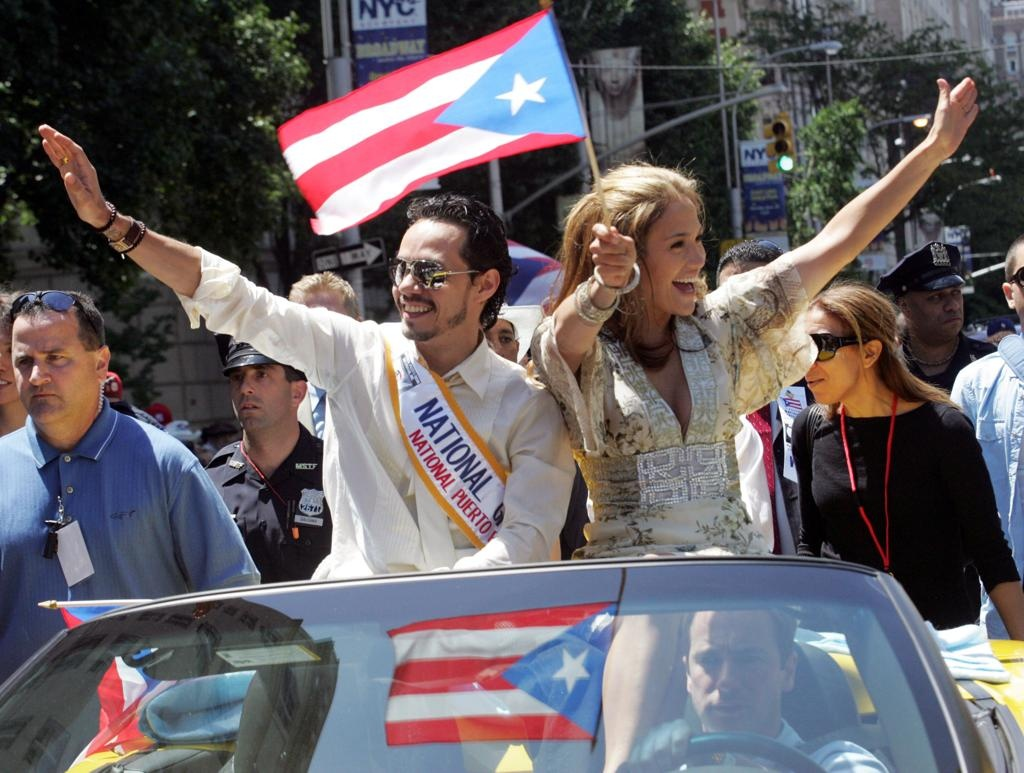human_face: (688, 612, 780, 733), (624, 199, 704, 315), (392, 226, 470, 340), (11, 316, 93, 421), (792, 312, 862, 404), (228, 360, 290, 430), (910, 274, 962, 336), (0, 311, 23, 407), (1000, 242, 1024, 332), (475, 321, 515, 369)
